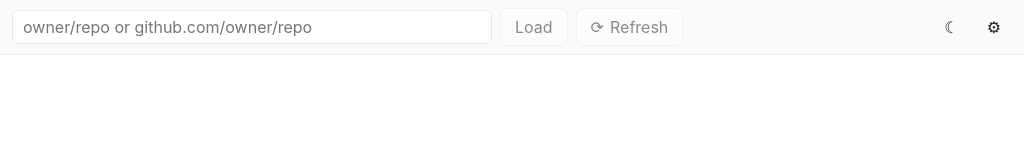
RepoBar › shows inline error on invalid input
The width and height of the screenshot is (1024, 160).
In the field with placeholder "owner/repo or github.com/owner/repo": (252, 27) [12,10,492,44], type "garbage"
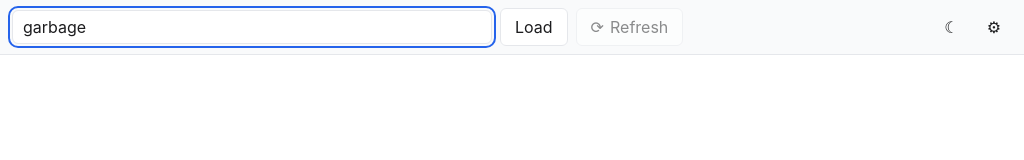
Press Enter
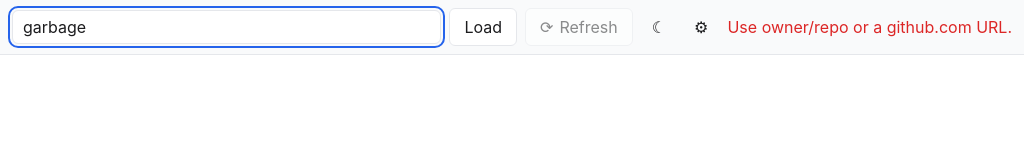
Expected: the message "Use owner/repo or a github.com URL." is shown, [728,17,1012,37]
